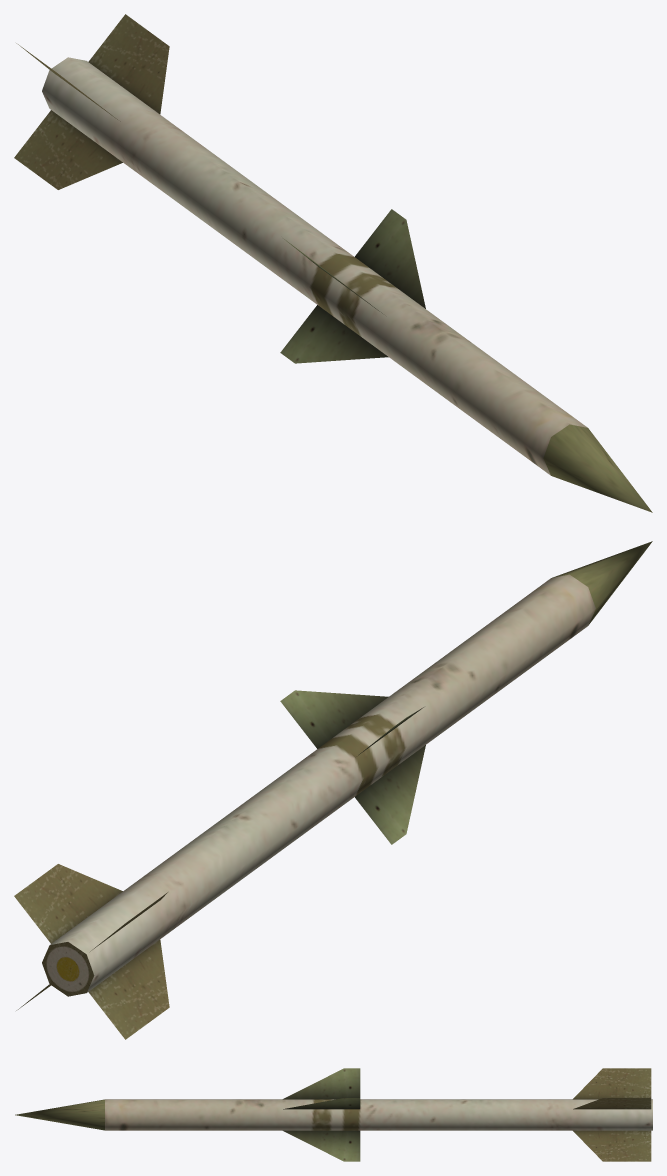
Rendered from missileFBX.fbx.
3 renders of one model, top to bottom at view 1: azimuth 30°, elevation 25°; view 2: azimuth 150°, elevation 25°; view 3: azimuth 270°, elevation 25°, orthographic. The views are drawn at different scales.
Parts seen in each view (by area): view 1: polySurface37; view 2: polySurface37; view 3: polySurface37.
Part boxes in pixels (x1,y1,x2,y2): polySurface37: [14, 14, 652, 512]; polySurface37: [14, 541, 652, 1039]; polySurface37: [15, 1068, 652, 1161].
Bounding box in the file's own units: 0.1065 × 0.1065 × 0.9681.
